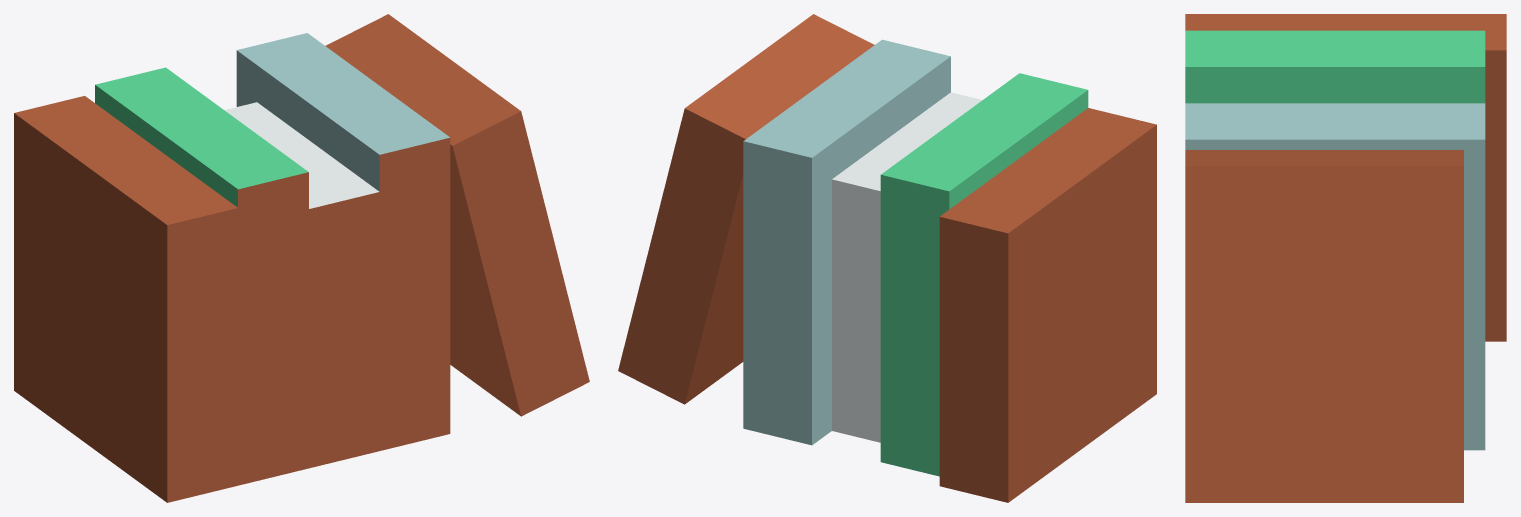
Rendered from books.glb.
3 views of the same model, side by side, from view 1: azimuth 30°, elevation 25°; view 2: azimuth 150°, elevation 25°; view 3: azimuth 270°, elevation 25° (orthographic). The views are drawn at different scales.
Size of the model in its own units: 1.5 by 1.04 by 0.945.
